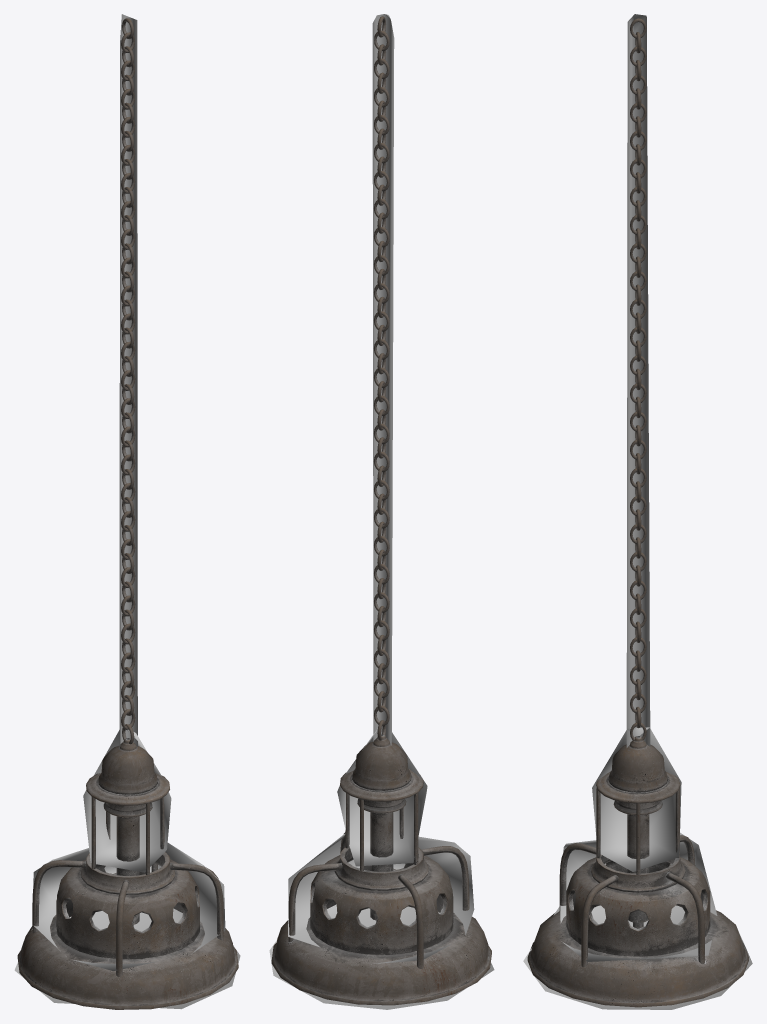
File: SM_Cieling_Light.gltf
The picture shows the model from 3 angles, left to right: view 1: azimuth 30°, elevation 25°; view 2: azimuth 150°, elevation 25°; view 3: azimuth 270°, elevation 25°; orthographic projection.
Parts seen in each view (by area): view 1: SM_Cieling_Light_LOD0, SM_Cieling_Light_ConvexHulls; view 2: SM_Cieling_Light_LOD0, SM_Cieling_Light_ConvexHulls; view 3: SM_Cieling_Light_LOD0, SM_Cieling_Light_ConvexHulls.
Part boxes in pixels (left/top/right/bottom): SM_Cieling_Light_LOD0: left=17, top=18, right=238, bottom=1009; SM_Cieling_Light_ConvexHulls: left=14, top=14, right=240, bottom=1009; SM_Cieling_Light_LOD0: left=271, top=16, right=491, bottom=1005; SM_Cieling_Light_ConvexHulls: left=269, top=14, right=494, bottom=1009; SM_Cieling_Light_LOD0: left=527, top=18, right=748, bottom=1007; SM_Cieling_Light_ConvexHulls: left=523, top=14, right=752, bottom=1009.
Size of what is drawn, in the model's own units: 0.84 by 4.06 by 0.8714.
